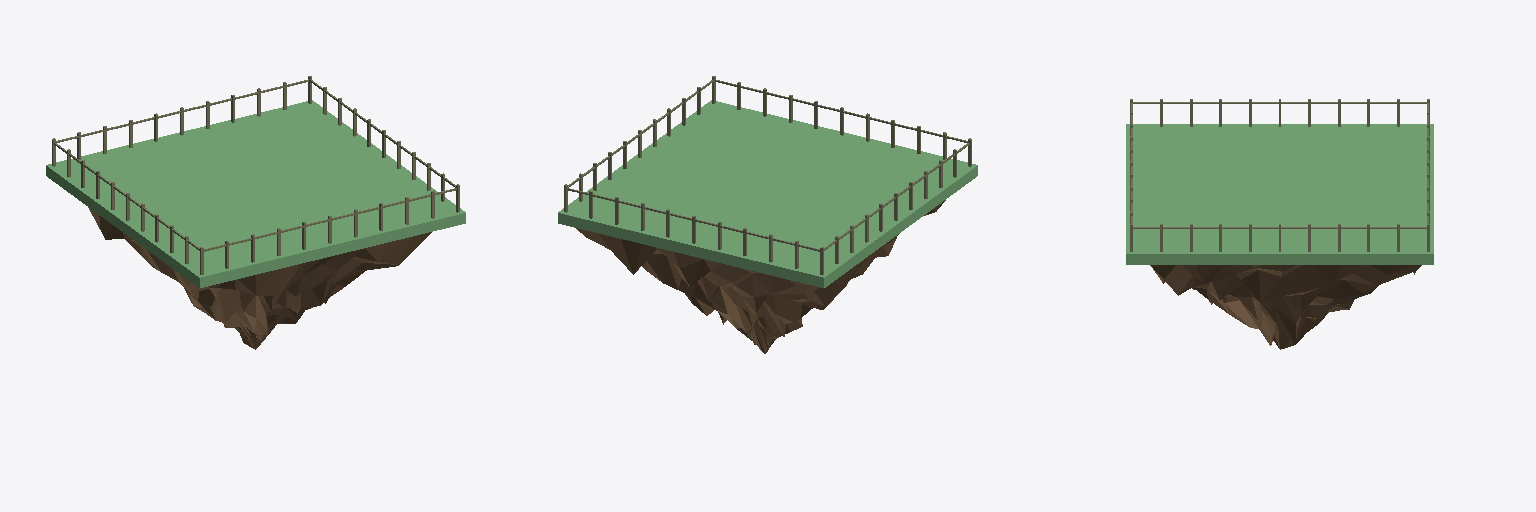
Rendered from world.obj.
3 views of the same model, side by side, from view 1: azimuth 30°, elevation 25°; view 2: azimuth 150°, elevation 25°; view 3: azimuth 270°, elevation 25° (orthographic).
Visible parts, largest first — view 1: Box01, Pyramid01, Box02; view 2: Box01, Pyramid01, Box02; view 3: Box01, Pyramid01, Box02.
Part boxes in pixels (x1,y1,x2,y2): Box01: (46, 100, 465, 287); Pyramid01: (88, 207, 431, 349); Box02: (52, 76, 459, 274); Box01: (558, 100, 977, 287); Pyramid01: (576, 200, 945, 353); Box02: (564, 76, 971, 274); Box01: (1126, 124, 1433, 264); Pyramid01: (1150, 265, 1421, 349); Box02: (1130, 99, 1429, 251).
Size of the model in its own units: 520 by 350 by 520.